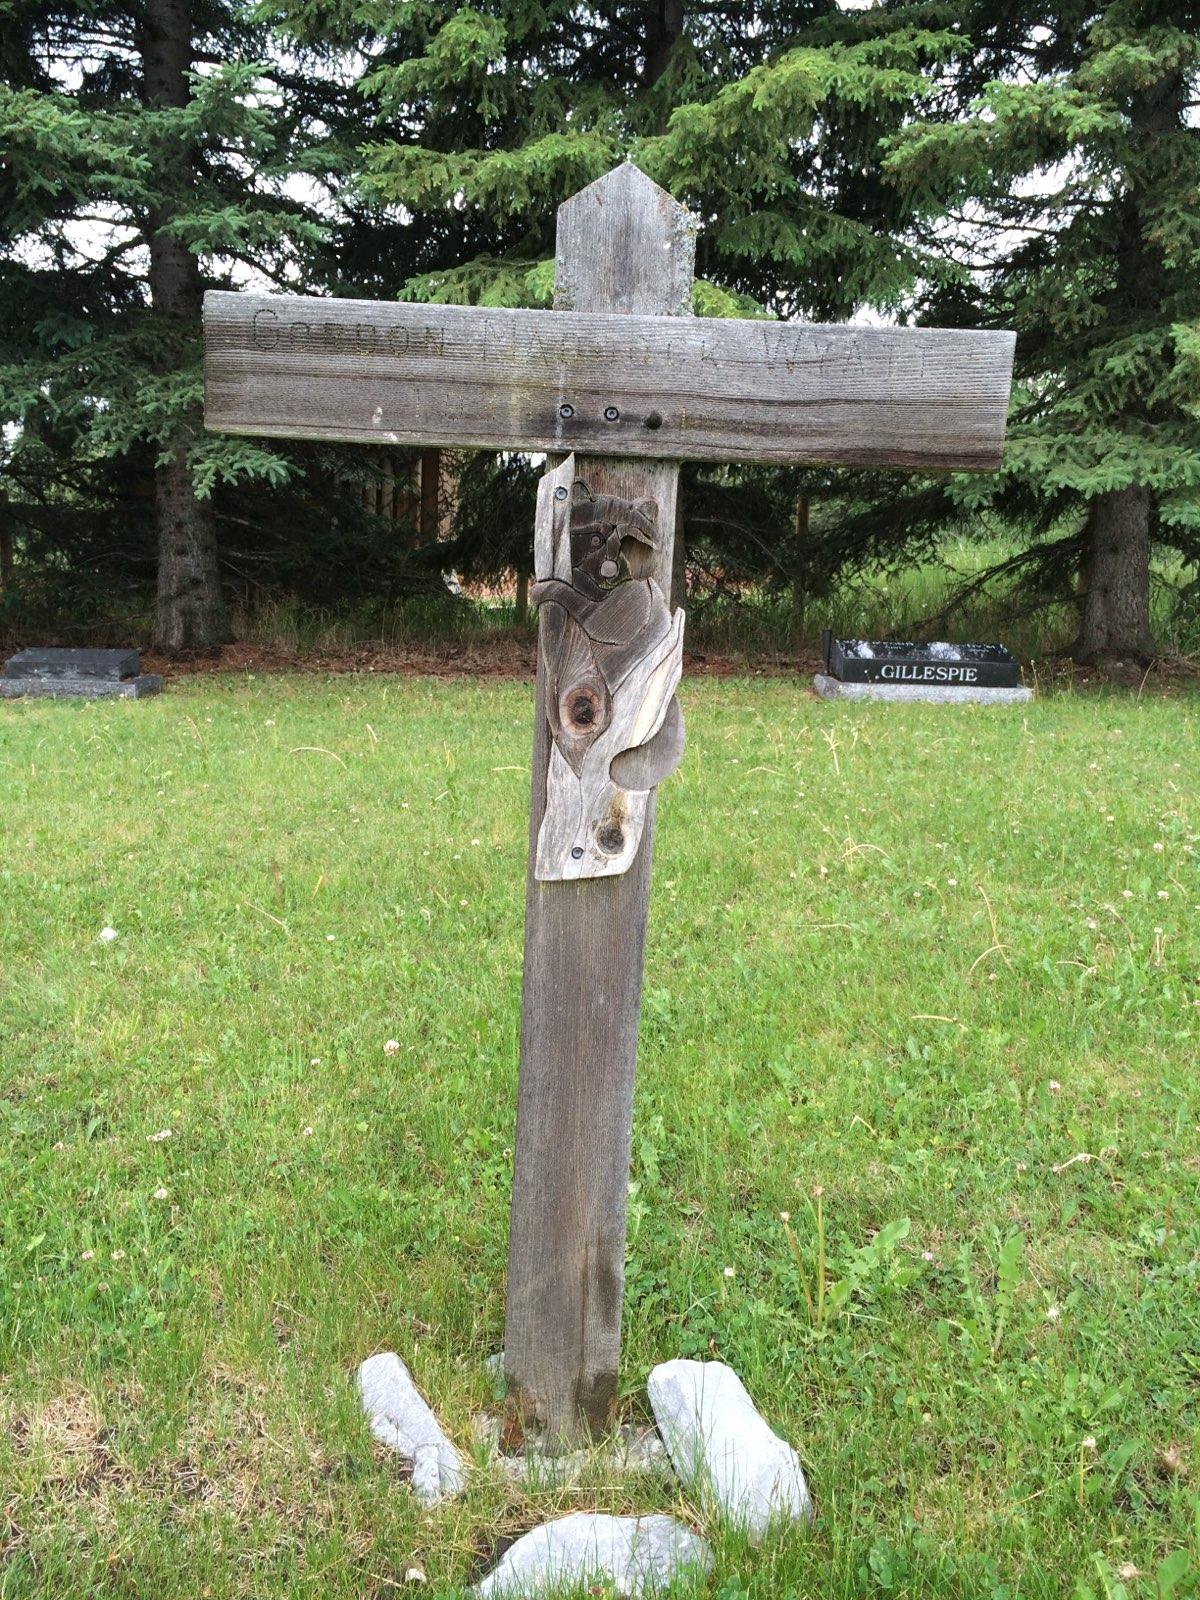upright: (200, 156, 1015, 1456)
